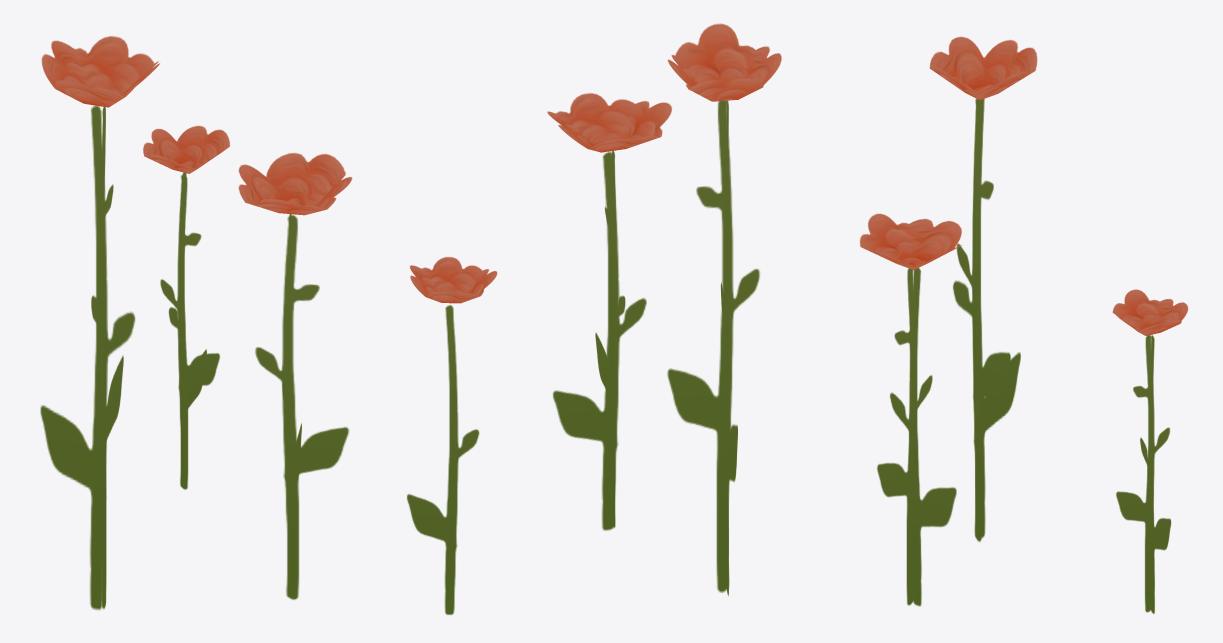
The model's file is flower02.glb.
3 renders of one model, left to right at view 1: azimuth 30°, elevation 25°; view 2: azimuth 150°, elevation 25°; view 3: azimuth 270°, elevation 25°, orthographic. The views are drawn at different scales.
Visible parts, largest first — view 1: Flower02; view 2: Flower02; view 3: Flower02.
Part boxes in pixels (x1,y1,x2,y2): Flower02: (40,36,352,610); Flower02: (407,23,781,614); Flower02: (860,36,1188,613).
Size of the model in its own units: 0.2072 by 0.3439 by 0.2408.
Materials: 1 (1 with a texture image).
